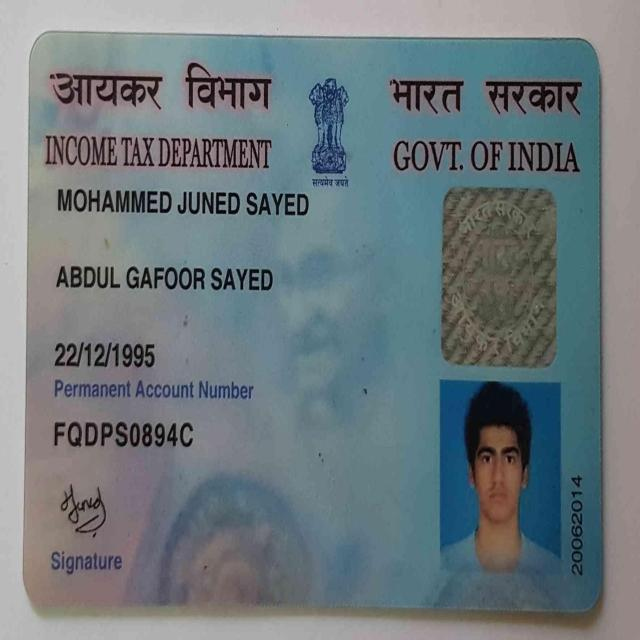pan_card: (31, 43, 590, 600)
